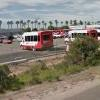Bus: (16, 26, 55, 50)
